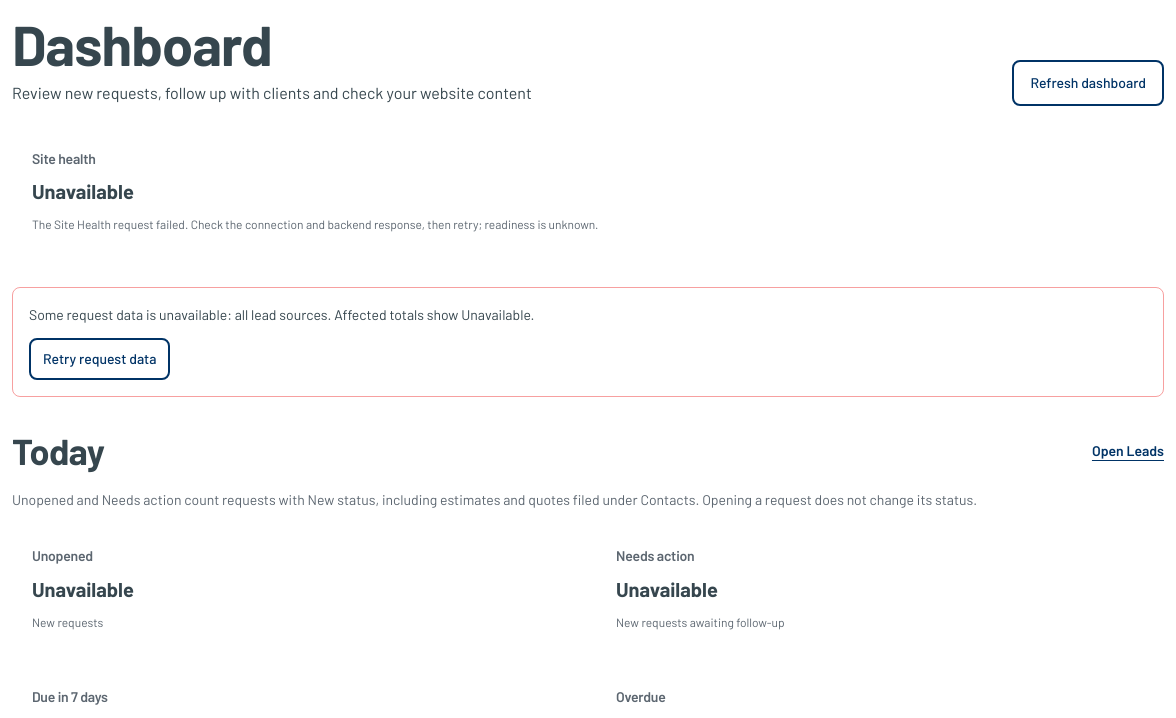
Test case: P4a dashboard › recovers from a full request failure using the retry control
Expected: the link with aria-label "Unopened: Unavailable" is shown, [32, 547, 134, 628]
Click the button "Retry request data". click: (100, 359)
box: [29, 338, 170, 380]
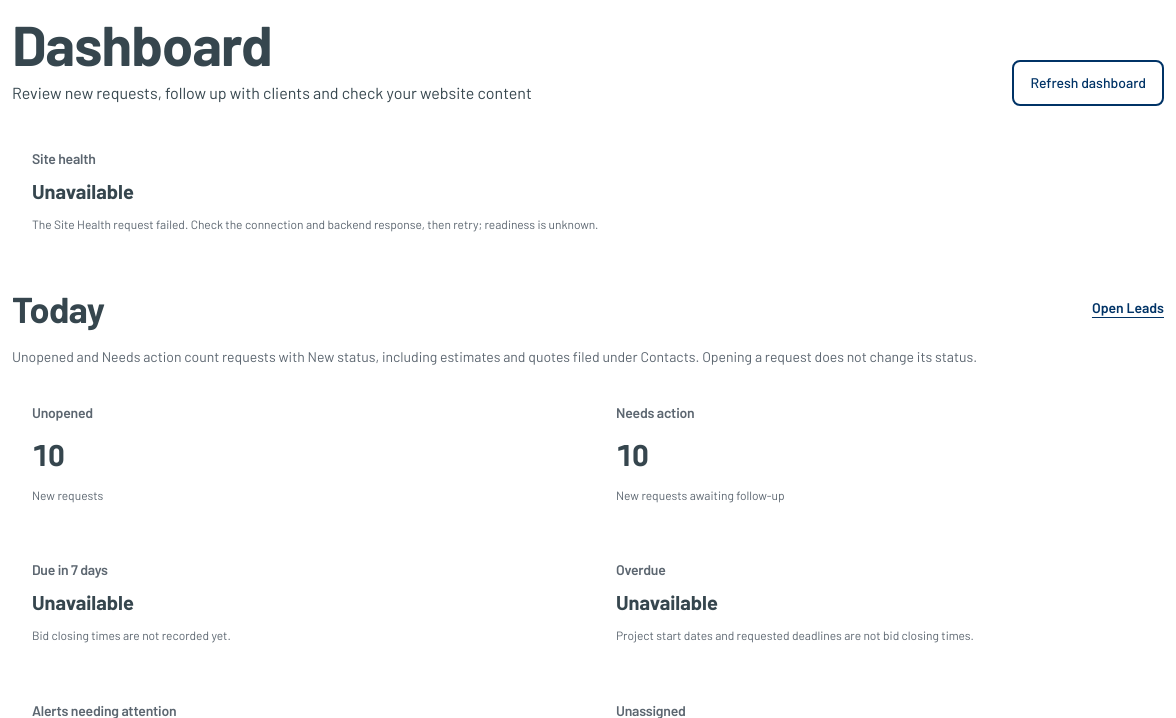
Expected: the link with aria-label "Unopened: 10" is shown, [32, 404, 103, 502]
